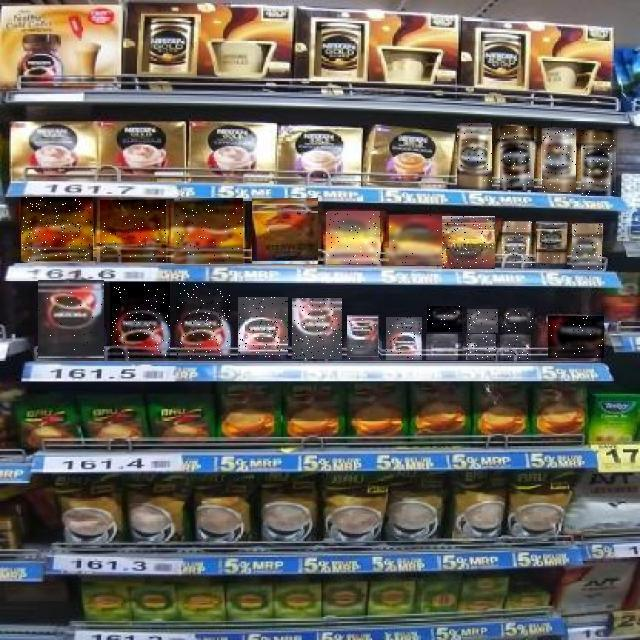Coffee: (38, 280, 104, 358), (21, 197, 93, 261), (110, 282, 170, 358), (174, 198, 243, 264), (253, 199, 319, 265), (176, 283, 230, 359), (100, 200, 166, 262), (293, 298, 343, 359), (238, 298, 288, 358), (326, 211, 380, 264), (442, 216, 495, 269), (389, 215, 442, 265), (548, 317, 604, 359), (457, 123, 492, 189), (582, 130, 616, 196), (500, 127, 534, 191), (542, 128, 576, 192), (386, 317, 422, 360), (348, 316, 382, 360), (536, 222, 567, 268), (502, 221, 532, 267), (572, 224, 602, 270), (427, 306, 462, 332), (427, 334, 459, 360), (466, 334, 496, 360), (500, 335, 531, 360), (503, 308, 535, 332), (467, 309, 498, 333)
